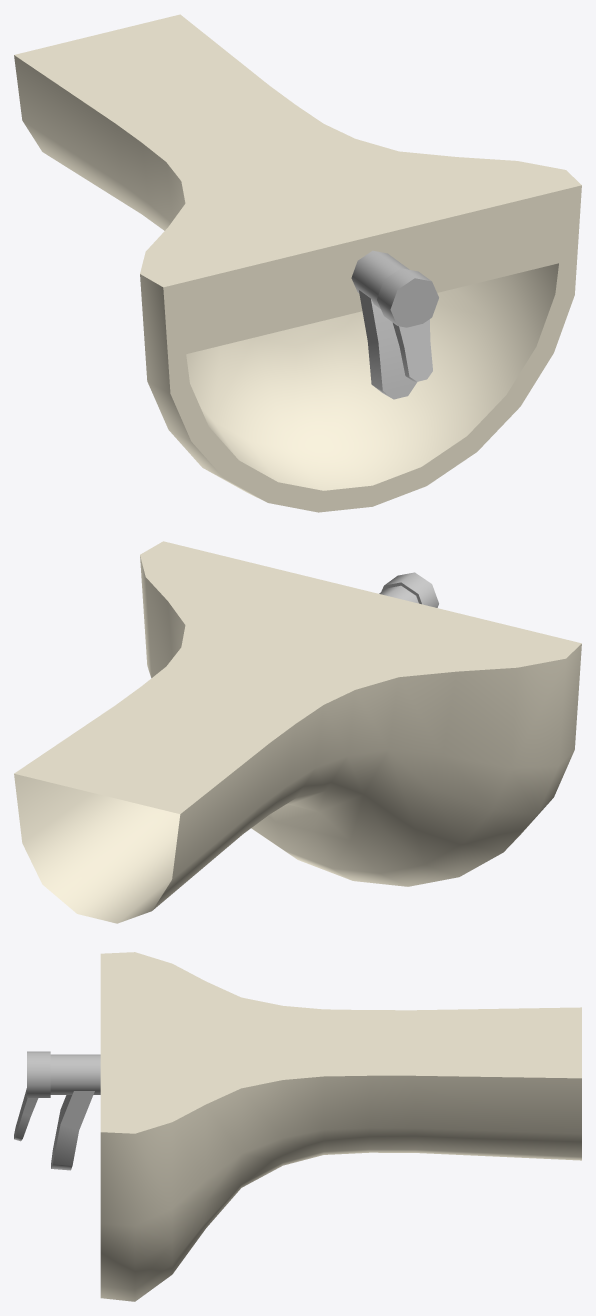
The model's file is sink.glb.
The picture shows the model from 3 angles, top to bottom: view 1: azimuth 30°, elevation 25°; view 2: azimuth 150°, elevation 25°; view 3: azimuth 270°, elevation 25°; orthographic projection. The views are drawn at different scales.
Parts seen in each view (by area): view 1: sink, crane; view 2: sink, crane; view 3: sink, crane.
Part boxes in pixels (x1=…): sink: x1=14, y1=14, x2=581, y2=512; crane: x1=351, y1=250, x2=438, y2=399; sink: x1=14, y1=541, x2=581, y2=923; crane: x1=379, y1=572, x2=438, y2=607; sink: x1=100, y1=952, x2=581, y2=1301; crane: x1=14, y1=1051, x2=100, y2=1170.
Bounding box in the file's own units: 1.57 × 0.963 × 2.07.
